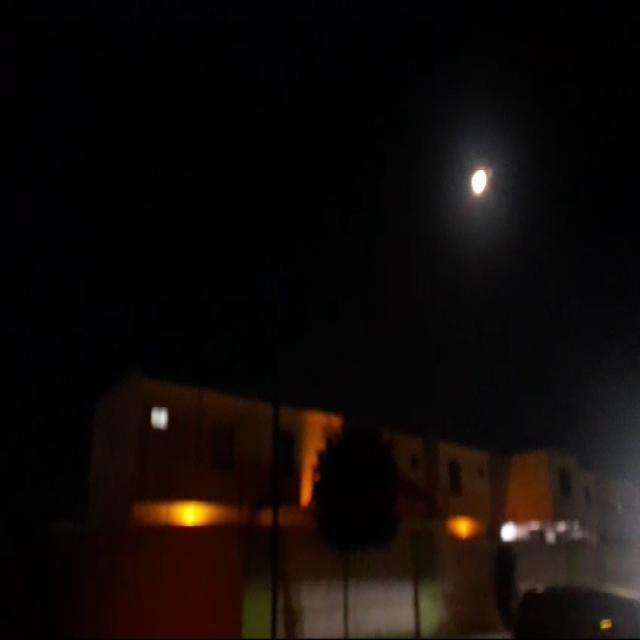moon: (472, 163, 492, 197)
